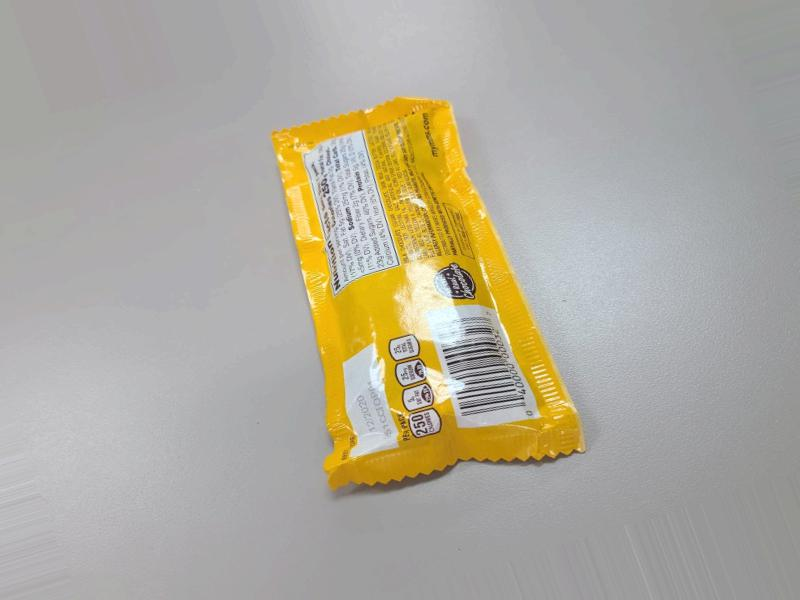m&m: (284, 83, 583, 490)
